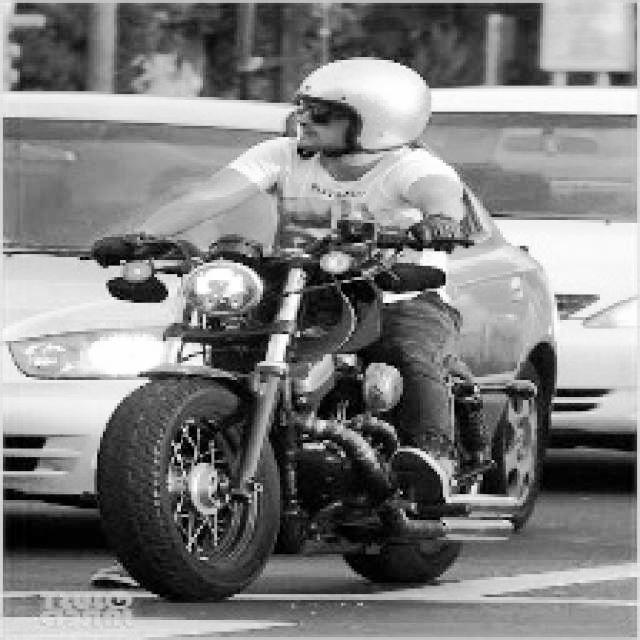Bike: (109, 227, 505, 617)
